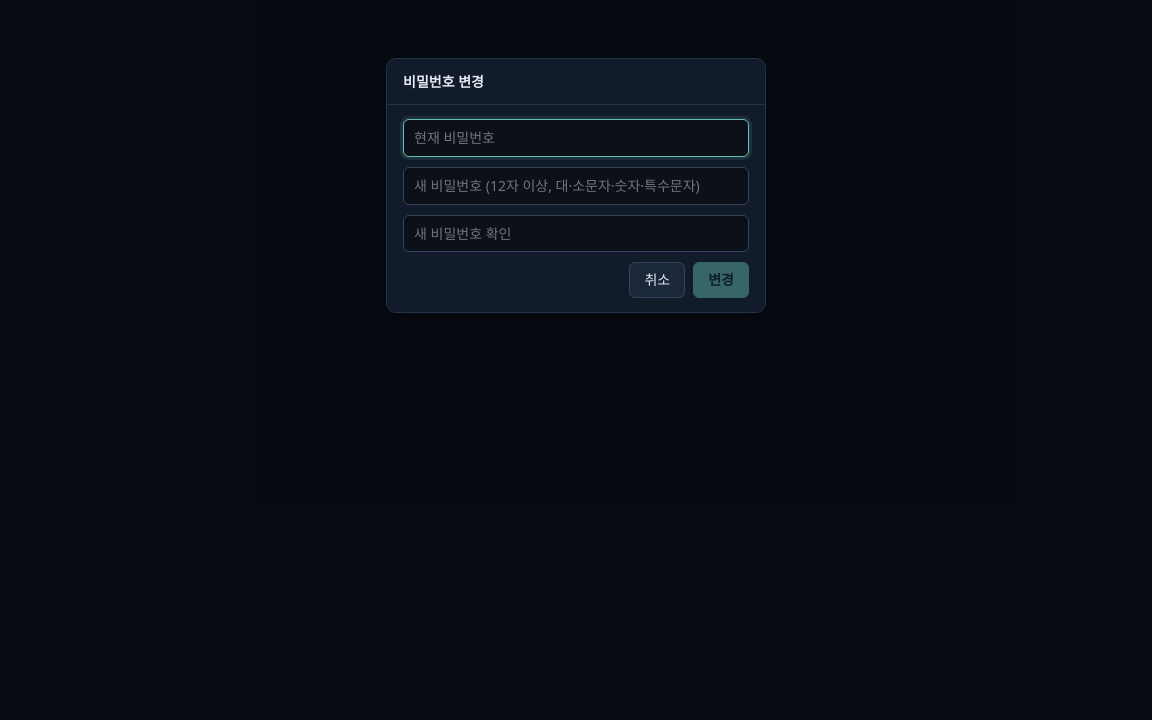
Test case: PasswordDialog › shows the policy error from the server
Type "old" into the password field with placeholder "현재 비밀번호".
click(576, 138); type("old")  # box [403, 119, 749, 157]
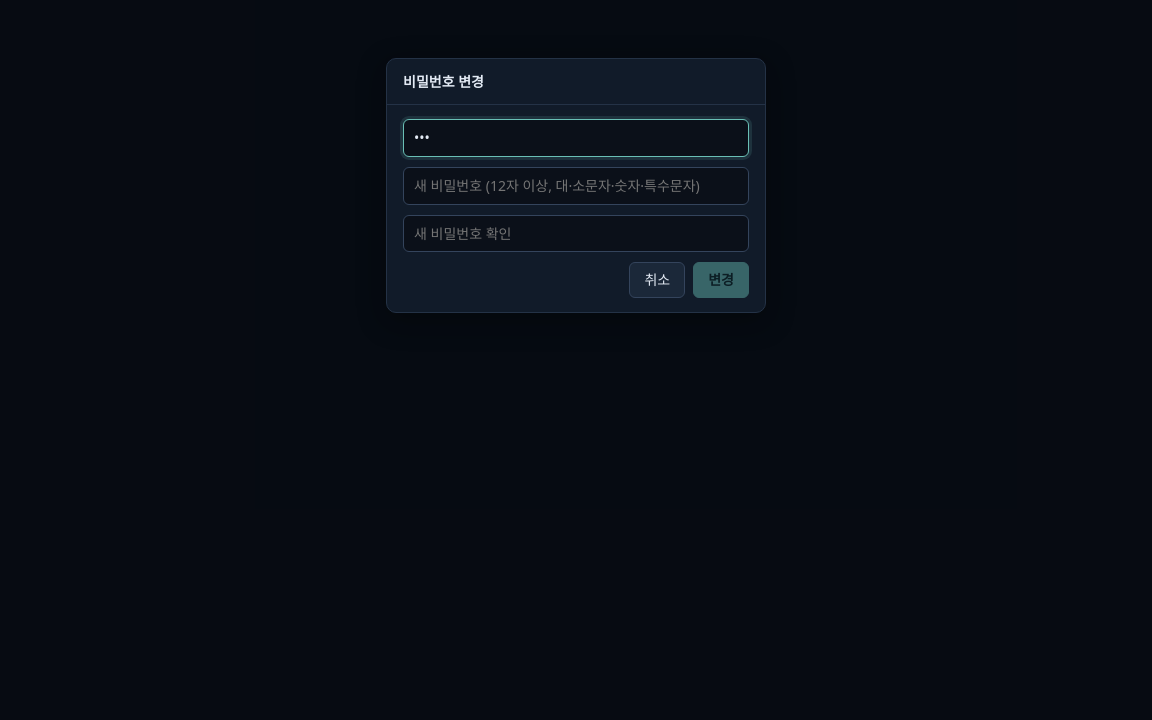
Type "short" into the password field with placeholder "새 비밀번호 (12자 이상, 대·소문자·숫자·특수문자)".
click(576, 186); type("short")  # box [403, 167, 749, 205]
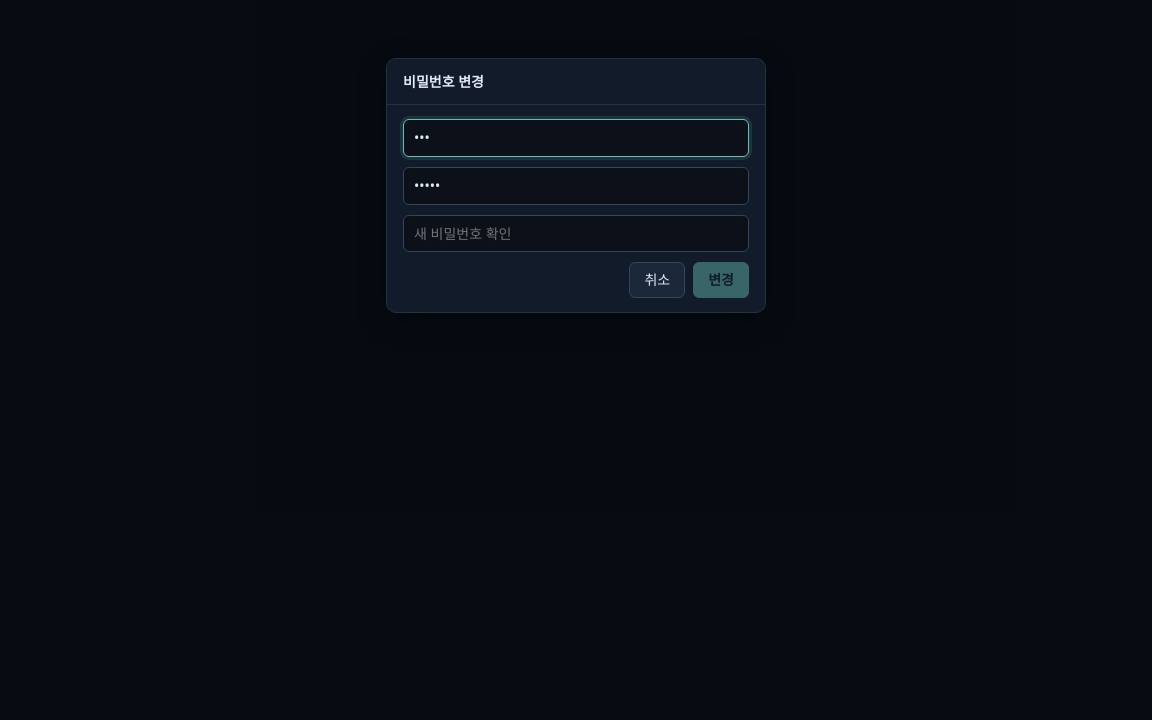
Type "short" into the password field with placeholder "새 비밀번호 확인".
click(576, 234); type("short")  # box [403, 215, 749, 252]
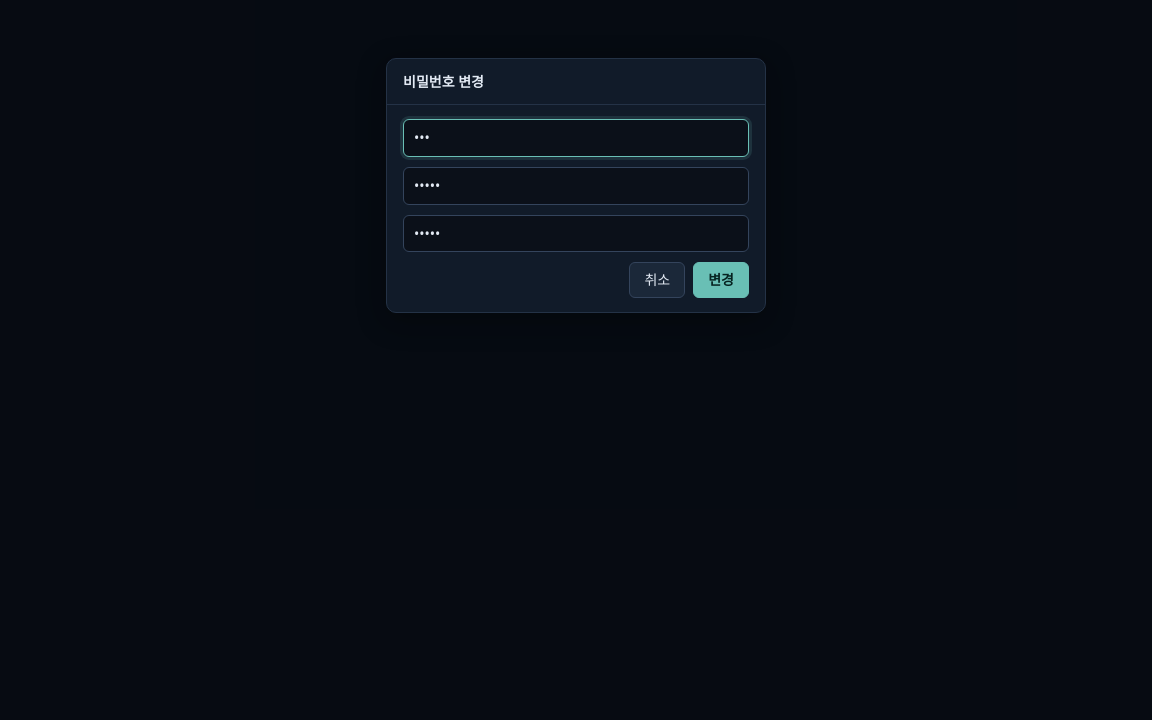
Click the button "변경".
click(721, 280)  # box [693, 262, 749, 298]
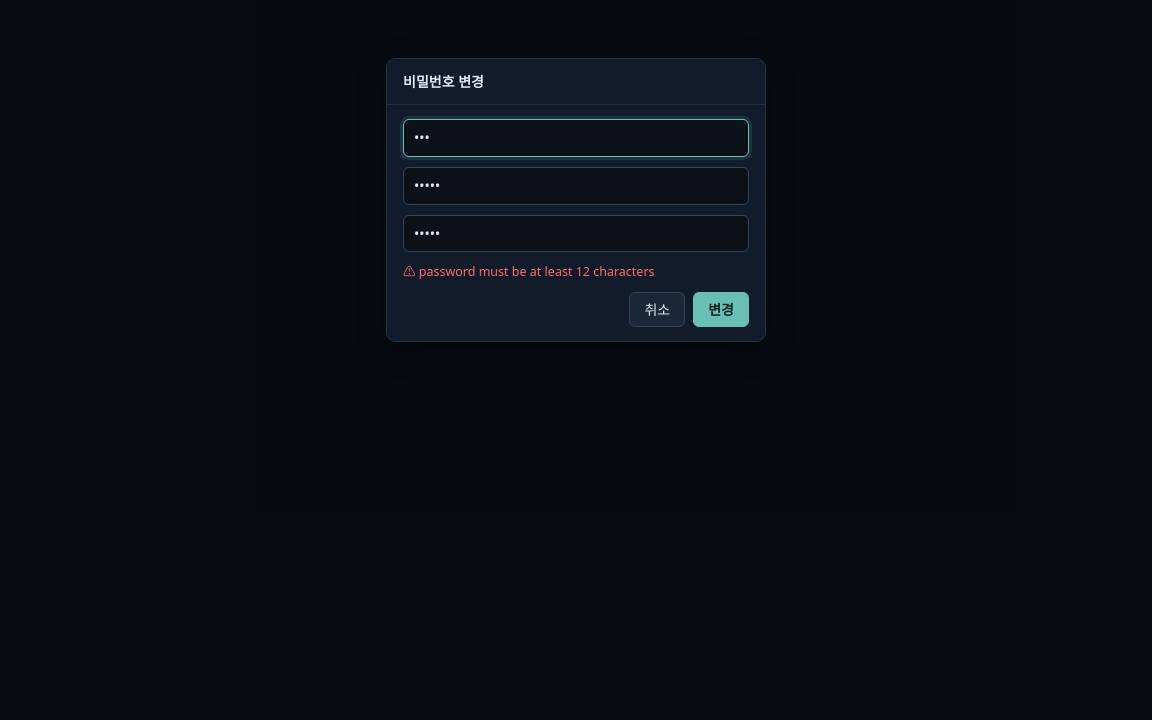
expect the message shows "12 characters": met, box [419, 263, 655, 280]
